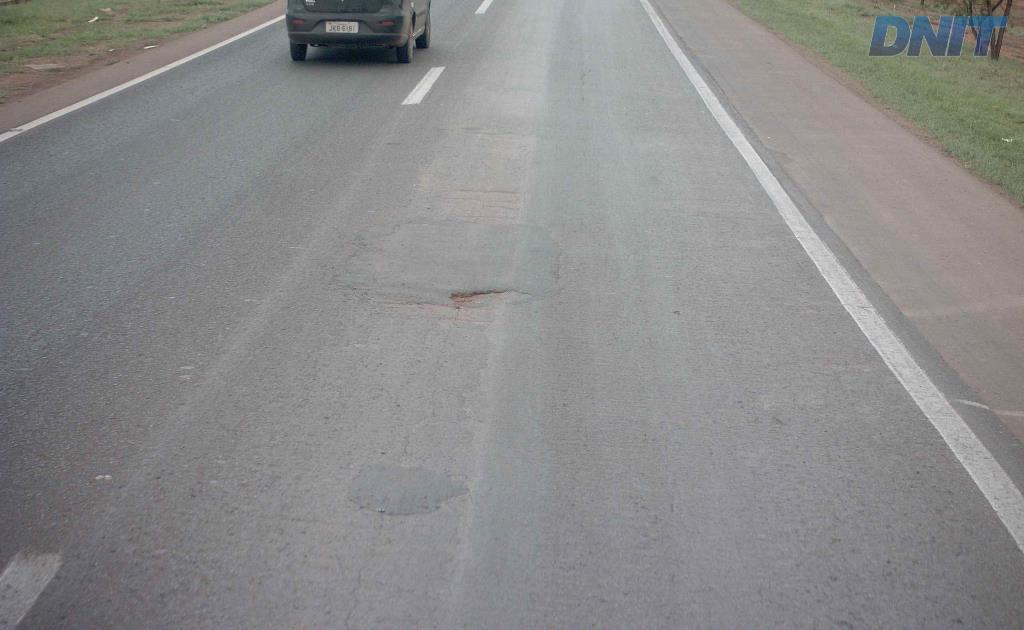pothole: (442, 280, 541, 308)
